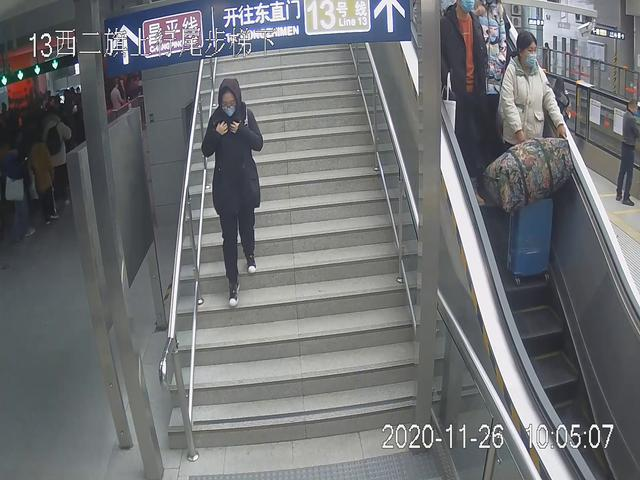person: (496, 28, 572, 285), (201, 74, 268, 314), (434, 1, 492, 213)
